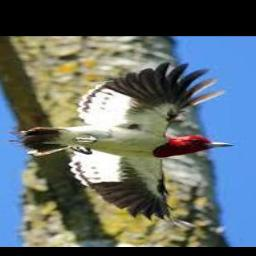Woodpecker: (11, 63, 233, 226)
